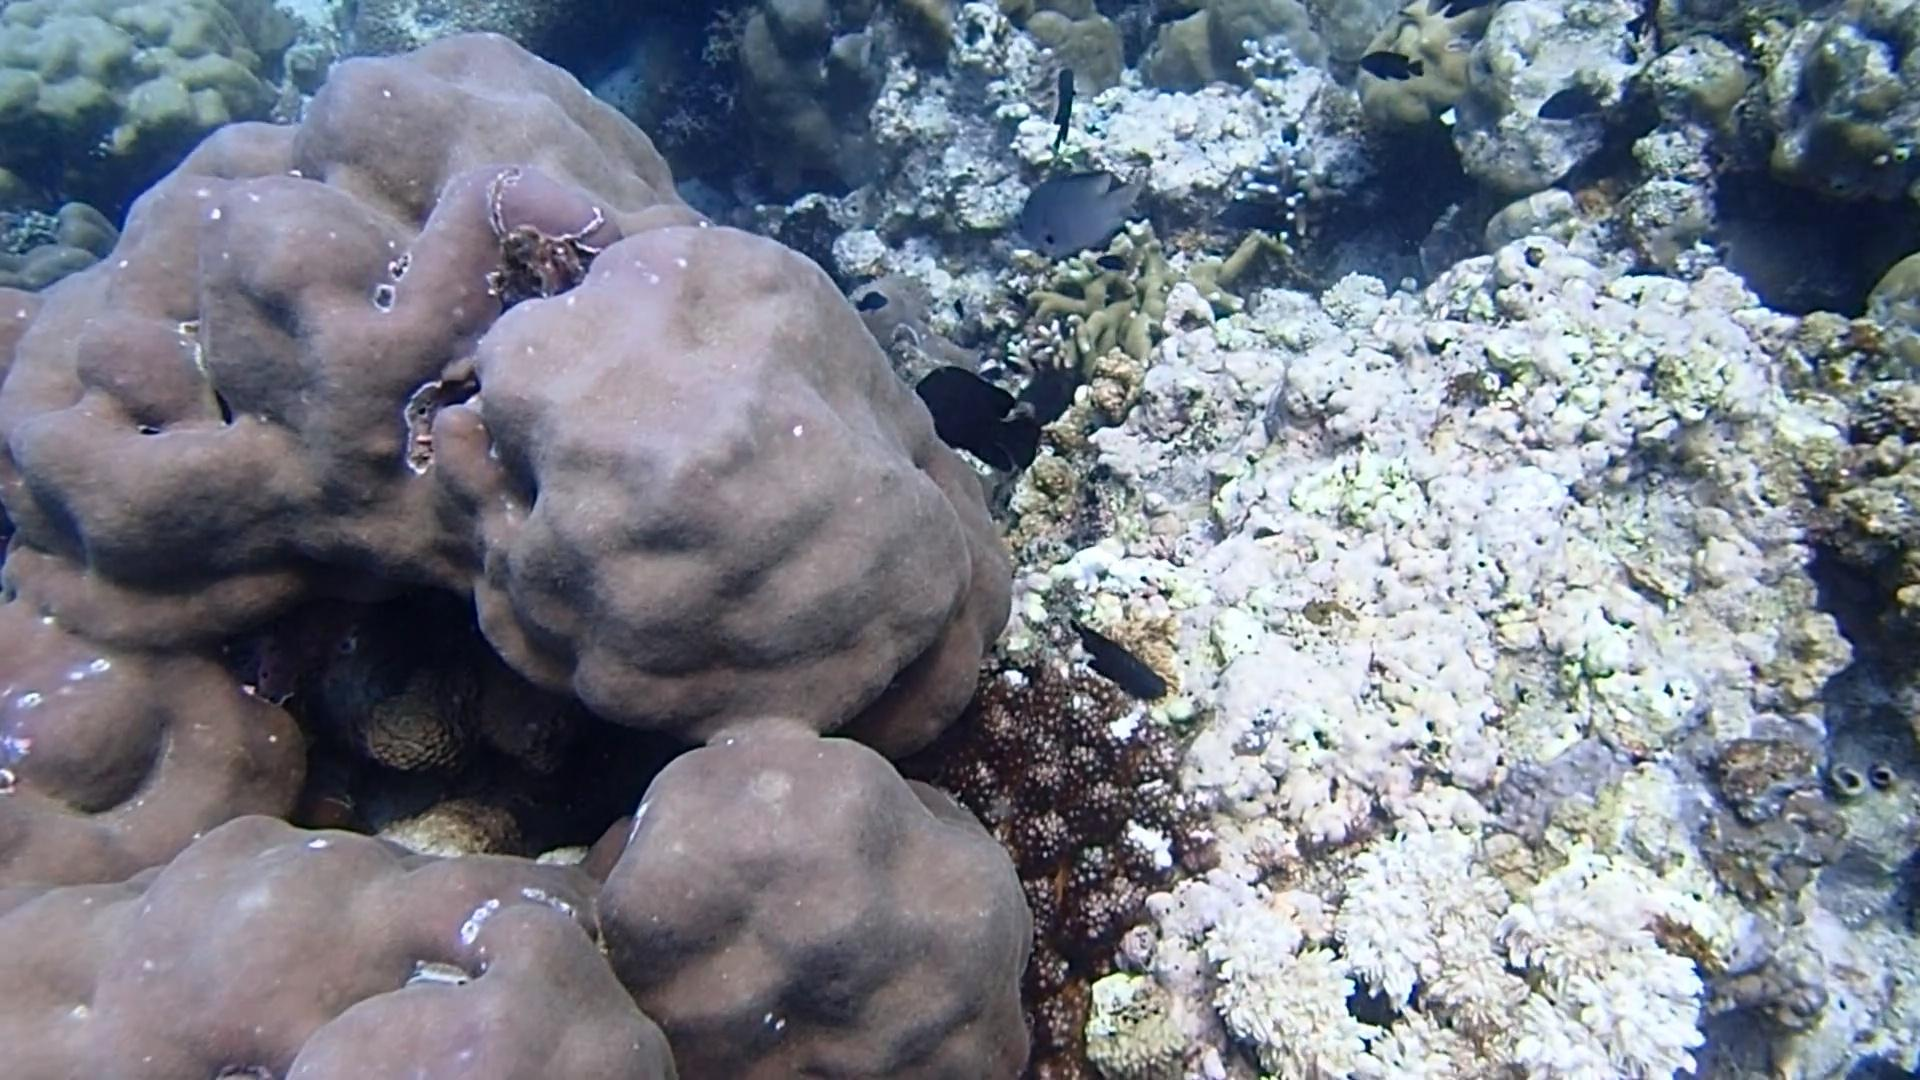Dark Fish: (910, 356, 1048, 473), (1065, 616, 1168, 709), (1534, 76, 1614, 125), (1046, 61, 1084, 156), (1348, 42, 1431, 86), (1215, 194, 1296, 236), (853, 282, 891, 318)
Light Fish - Dark Fin: (1006, 158, 1156, 270)
